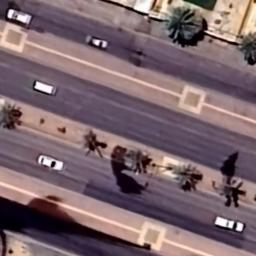SUV: (4, 6, 34, 28)
pickup: (214, 215, 246, 234)
sedan: (35, 153, 66, 174), (82, 34, 110, 51)
van: (30, 78, 57, 98)
